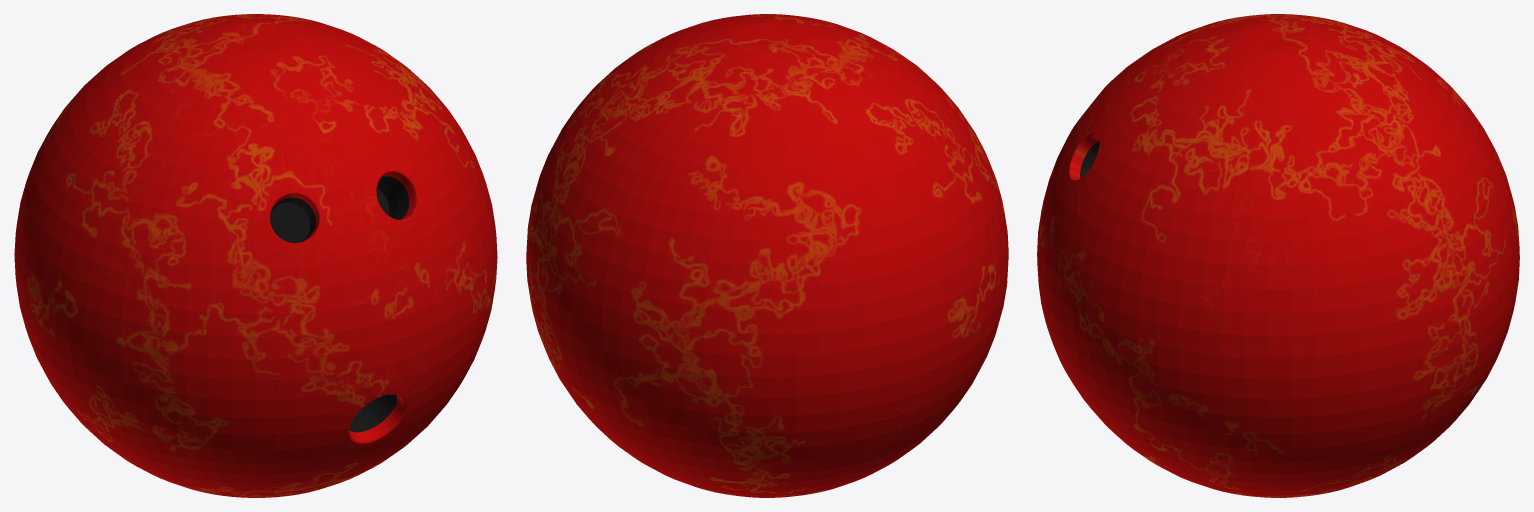
Rendered from Bowling Ball.fbx.
The picture shows the model from 3 angles, left to right: view 1: azimuth 30°, elevation 25°; view 2: azimuth 150°, elevation 25°; view 3: azimuth 270°, elevation 25°; orthographic projection.
Parts seen in each view (by area): view 1: ball.Shape; view 2: ball.Shape; view 3: ball.Shape.
Boxes of the visible parts, x1=… form: ball.Shape: x1=14, y1=14, x2=497, y2=497; ball.Shape: x1=526, y1=14, x2=1008, y2=497; ball.Shape: x1=1037, y1=14, x2=1519, y2=497.
Size of the model in its own units: 23.98 by 23.99 by 23.99.
Materials: 1 (1 with a texture image).
